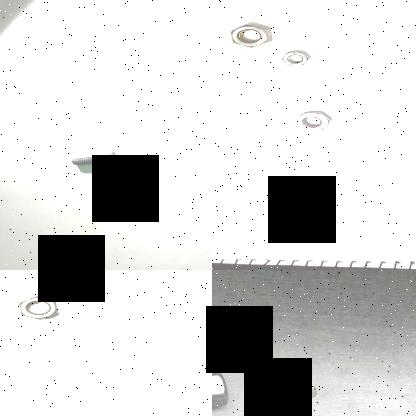Bolts: (68, 150, 121, 167)
NUTS: (268, 368, 323, 405), (15, 295, 62, 323), (226, 23, 276, 49), (291, 110, 331, 134), (212, 363, 232, 409), (279, 48, 314, 70)
